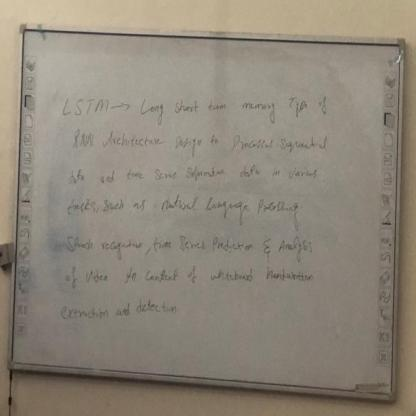Handwritten text: (60, 82, 332, 126), (72, 123, 333, 156), (55, 229, 315, 262), (61, 193, 302, 226), (61, 159, 327, 188), (63, 265, 316, 295), (41, 295, 179, 325)
Whiteboard: (4, 23, 411, 408)
